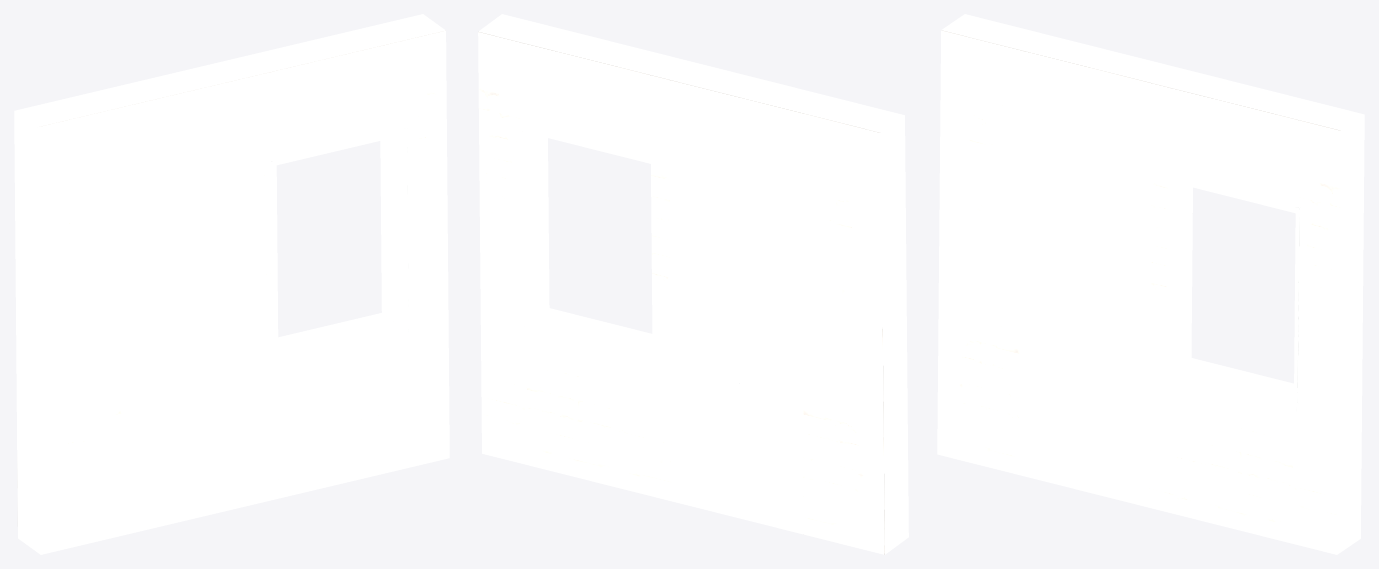
3 renders of one model, left to right at view 1: azimuth 30°, elevation 25°; view 2: azimuth 150°, elevation 25°; view 3: azimuth 330°, elevation 25°, orthographic.
Visible parts, largest first — view 1: E_D_1; view 2: E_D_1; view 3: E_D_1.
Part boxes in pixels (x1,y1,x2,y2): E_D_1: (14, 14, 449, 554); E_D_1: (478, 14, 908, 554); E_D_1: (937, 14, 1364, 554).
Size of what is drawn, in the model's own units: 294 by 294 by 37.9.
1 material, 1 textured.
